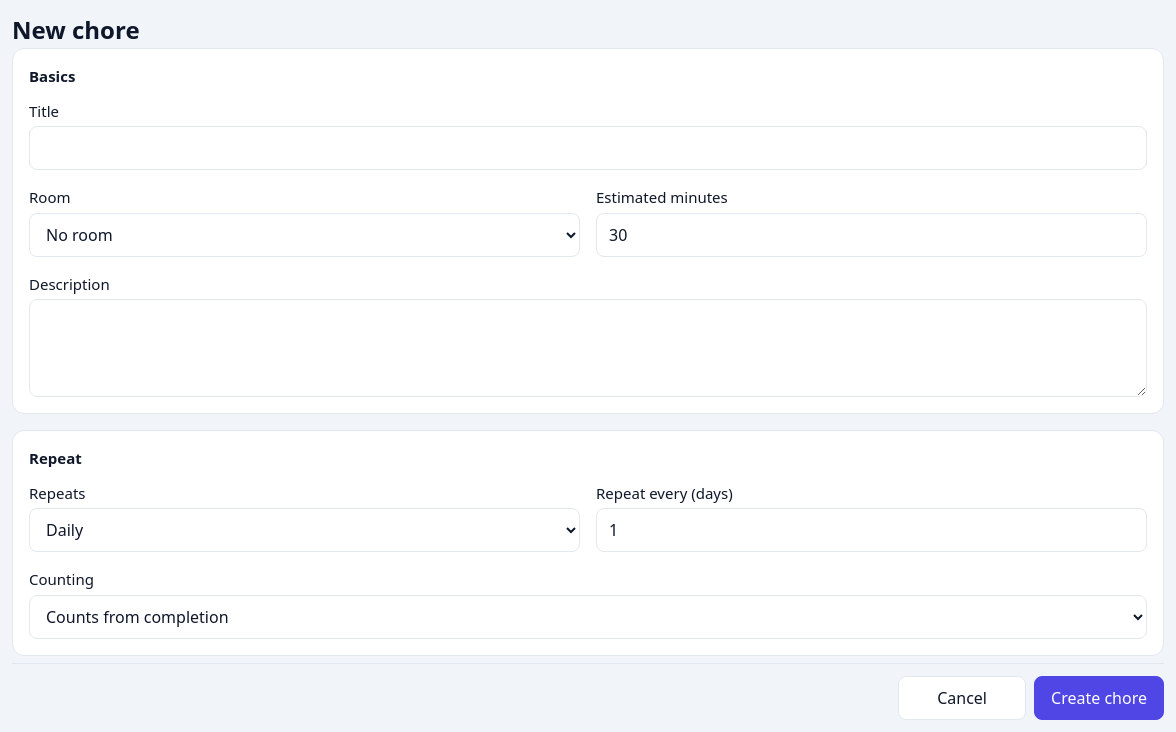
Test: ChoreFormPage recurrence fields › names the unit the interval counts in, and follows the choice
This screenshot has width=1176, height=732.
Check: the number field labelled "Repeat every (days)" is shown, box [596,508,1147,552]
Select "Monthly" in the dropdown labelled "Repeats" at [304, 530], box [29,508,580,552]
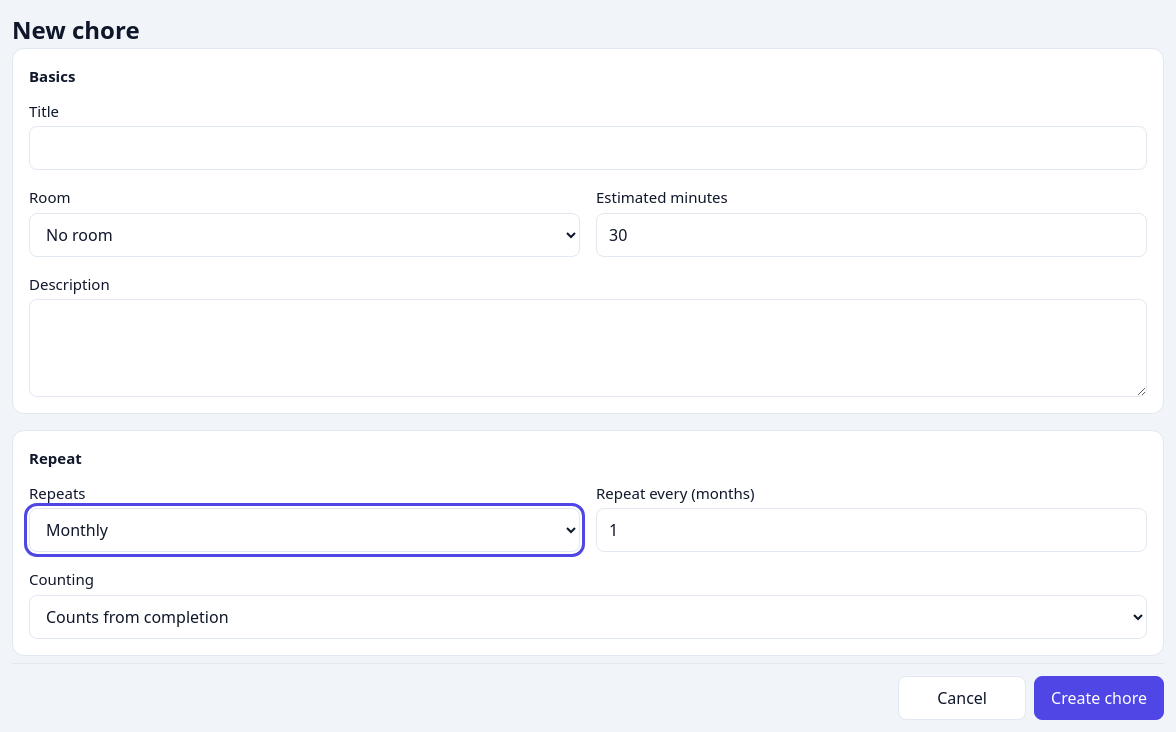
Check: the number field labelled "Repeat every (months)" is shown, box [596,508,1147,552]
Check: the label labelled "Repeat every (days)" is gone
